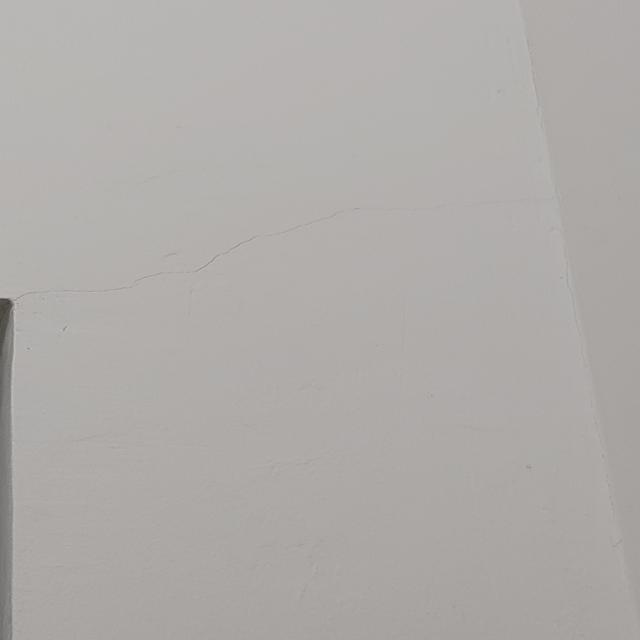Crack: (17, 184, 570, 301)
